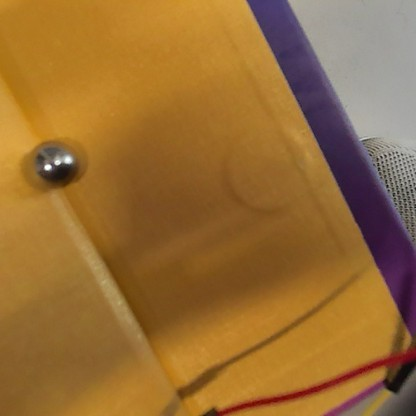ironball: (29, 140, 81, 189)
